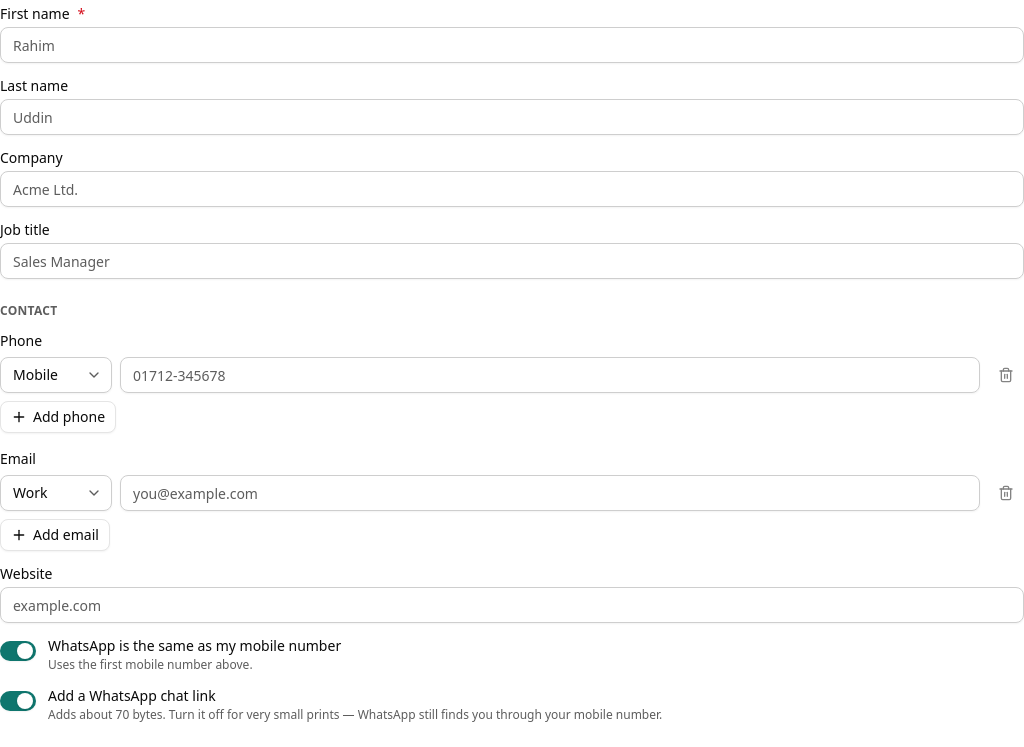
Test case: vCard form › shows a separate WhatsApp field when the toggle is off and flags invalid numbers
expect the field labelled "WhatsApp number" is not shown: met
Click the switch named "same as my mobile" next to "WhatsApp is the same as my mobile number": x=18, y=651 [0, 641, 36, 661]
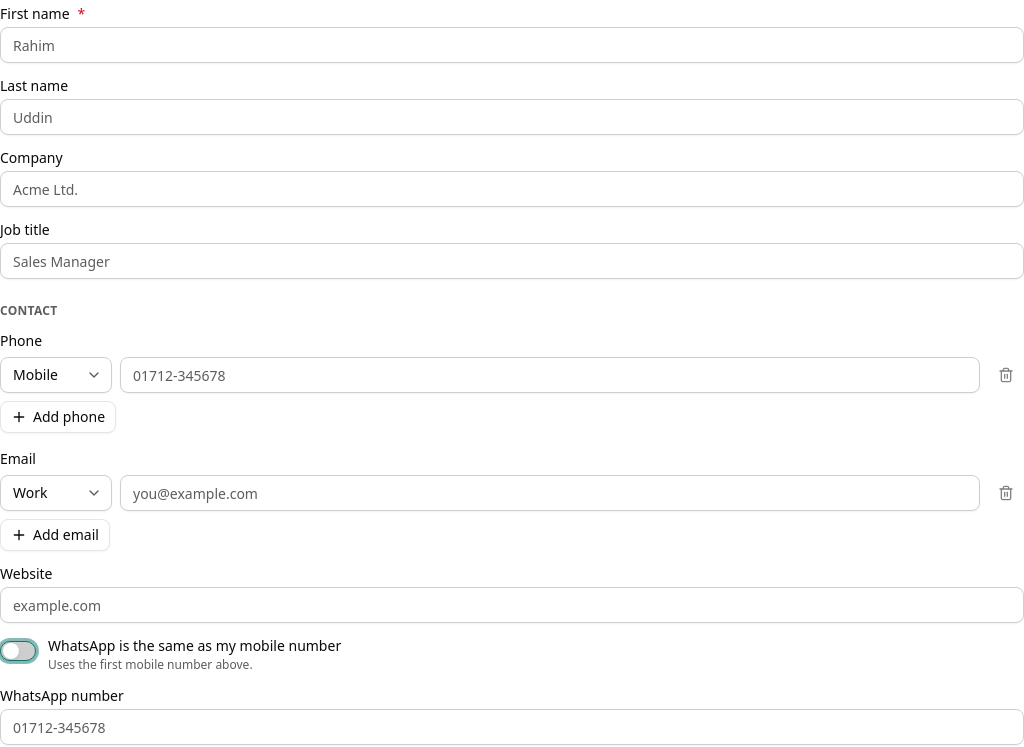
In the field labelled "WhatsApp number": x=512, y=727 [0, 709, 1023, 745], type "12345"
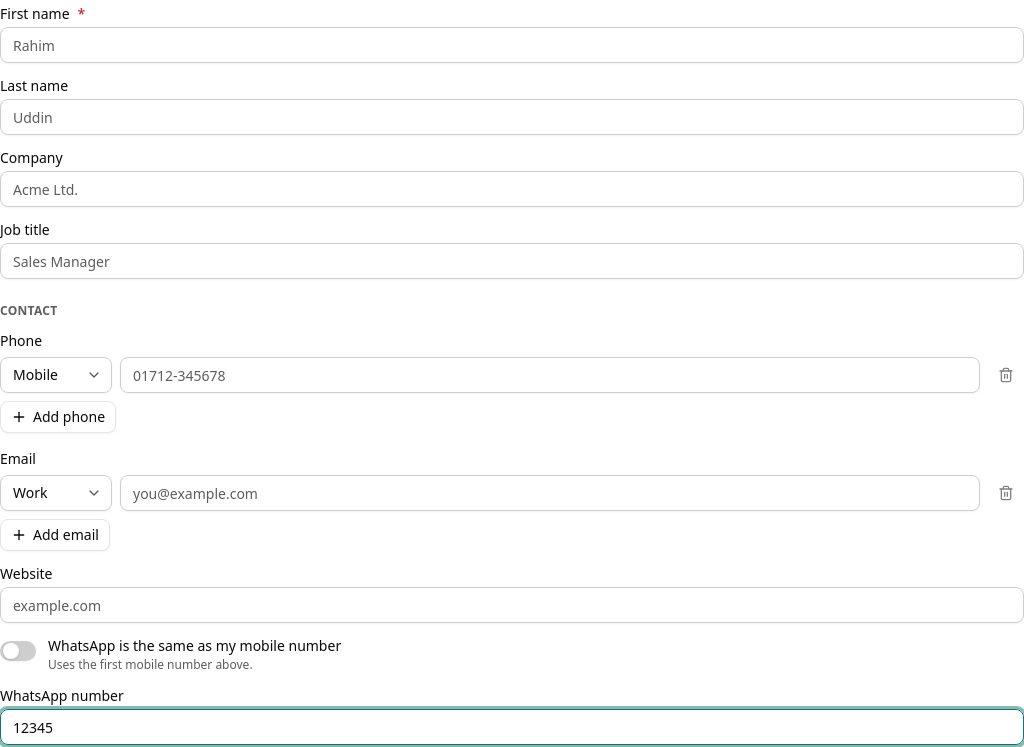
Press Tab
(page scrolled)
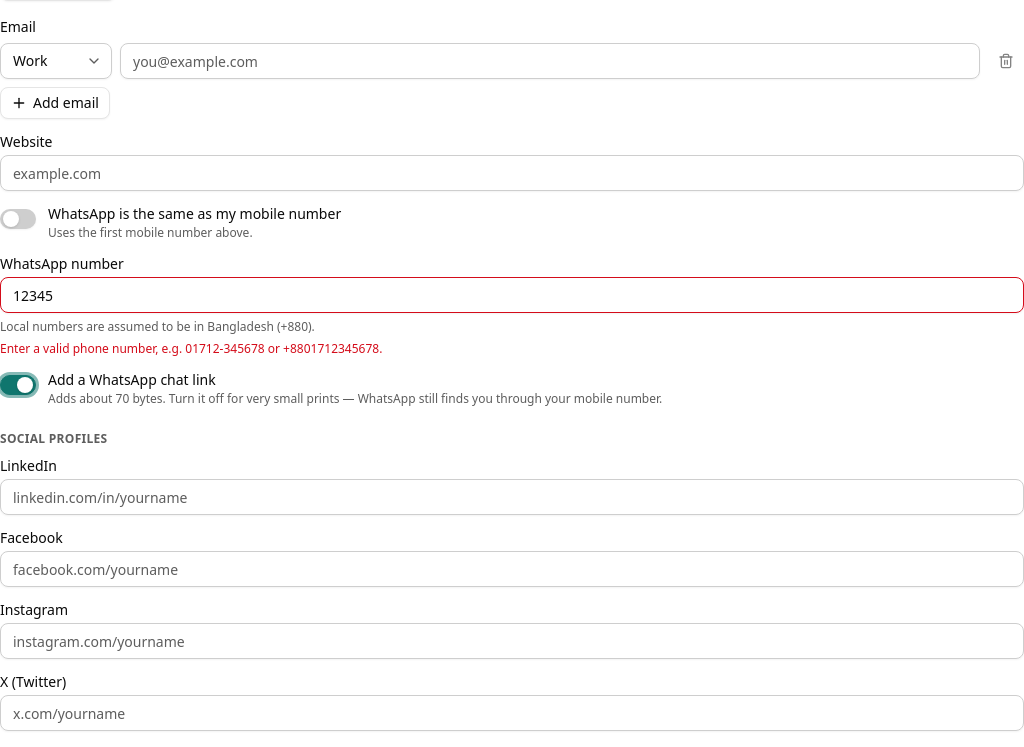
expect the text "Enter a valid phone number" is shown: met, box [0, 340, 382, 357]
